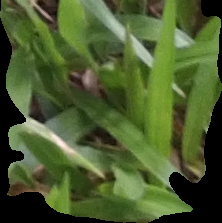grass: (1, 1, 220, 222)
